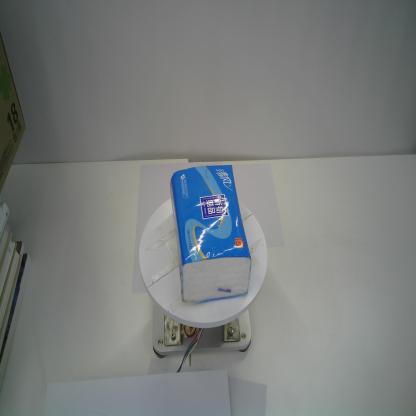Tissue: (169, 159, 254, 306)
